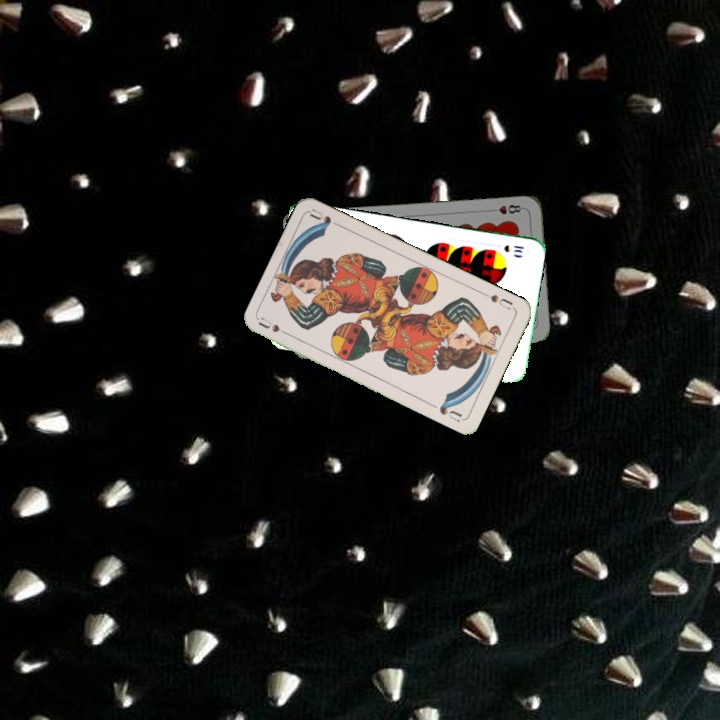H8: (486, 200, 526, 217)
S10: (500, 241, 526, 255)
SU: (256, 313, 295, 340), (479, 289, 515, 313)
